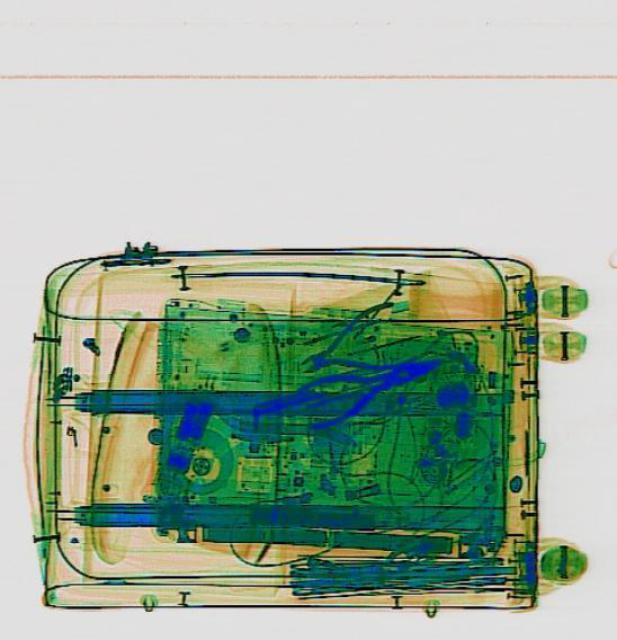Pliers: (290, 336, 447, 432), (286, 296, 417, 398)
